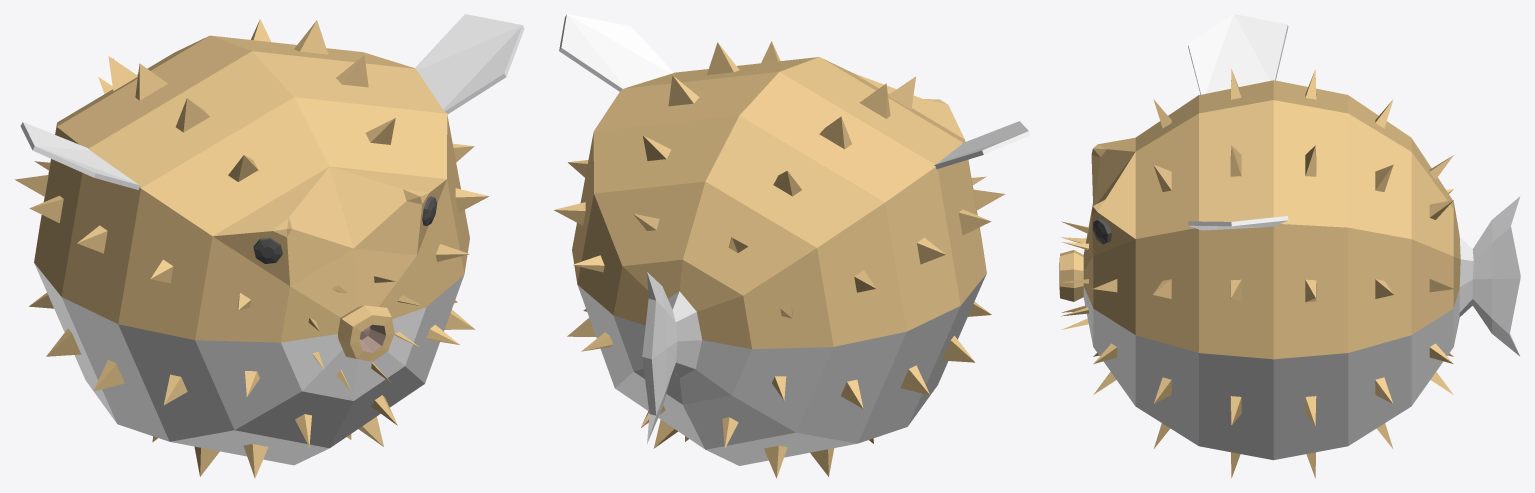
File: blowfish-NSLK3ikT.glb
The picture shows the model from 3 angles, left to right: view 1: azimuth 30°, elevation 25°; view 2: azimuth 150°, elevation 25°; view 3: azimuth 270°, elevation 25°; orthographic projection. The views are drawn at different scales.
Visible parts, largest first — view 1: Object_4, Object_5, Object_6, Object_7; view 2: Object_4, Object_5; view 3: Object_4, Object_5.
Boxes of the visible parts, x1,y1,x2,y2 form: Object_4: [15, 19, 488, 478]; Object_5: [20, 14, 524, 465]; Object_6: [253, 196, 437, 263]; Object_7: [359, 324, 385, 352]; Object_4: [554, 41, 1005, 478]; Object_5: [559, 14, 1030, 465]; Object_4: [1059, 69, 1460, 478]; Object_5: [1083, 14, 1520, 460].
Size of the model in its own units: 12.89 by 10 by 11.81.
